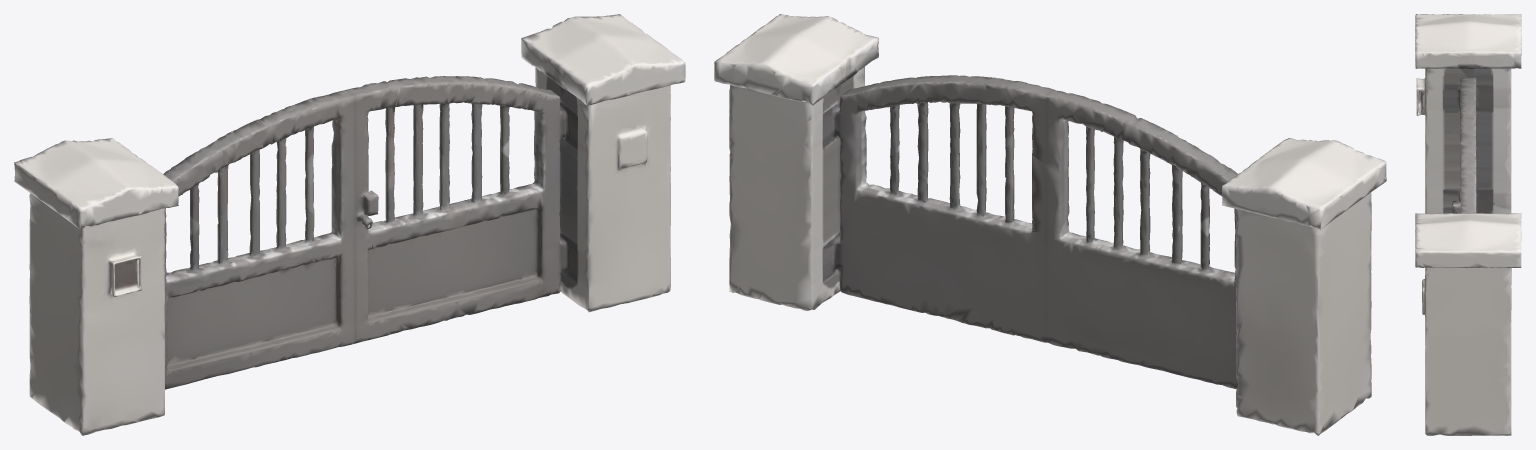
File: school_gate.glb
3 views of the same model, side by side, from view 1: azimuth 30°, elevation 25°; view 2: azimuth 150°, elevation 25°; view 3: azimuth 270°, elevation 25° (orthographic). The views are drawn at different scales.
Visible parts, largest first — view 1: model; view 2: model; view 3: model.
Boxes of the visible parts, <box> form: model: <box>14,14,685,435</box>; model: <box>714,14,1386,435</box>; model: <box>1415,14,1521,435</box>.
Size of the model in its own units: 1.9 by 0.7554 by 0.3583.
Materials: 1 (1 with a texture image).
